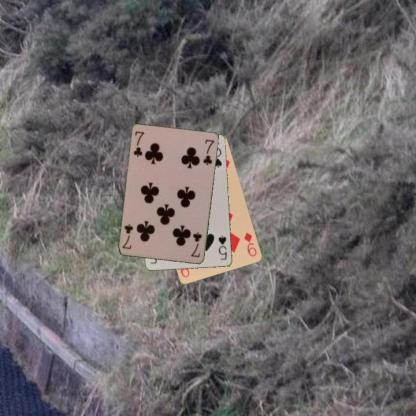5s: (216, 234, 228, 261)
7c: (188, 230, 204, 259), (131, 128, 146, 158)
9d: (242, 229, 258, 258)
